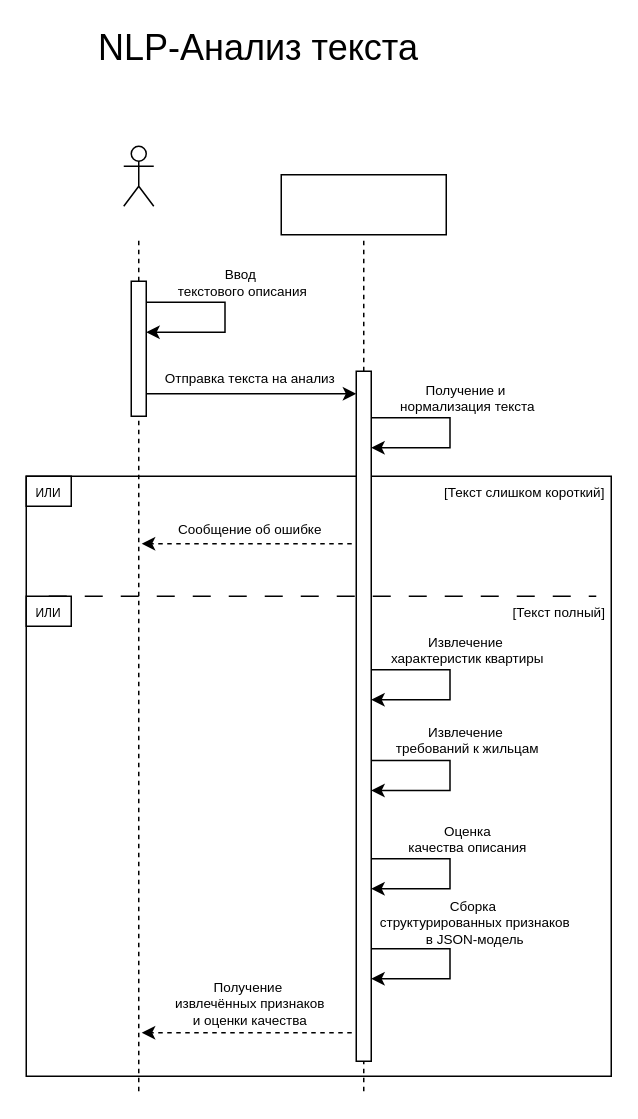
The diagram is 638 pixels wide and 1119 high, and some of its shapes have lost their labels. Here are the shapes that lost their labels. From the top down, the centre of each, then its label:
At pixel 138 175: "Арендодатель".
At pixel 363 204: "NLP-сервис".
